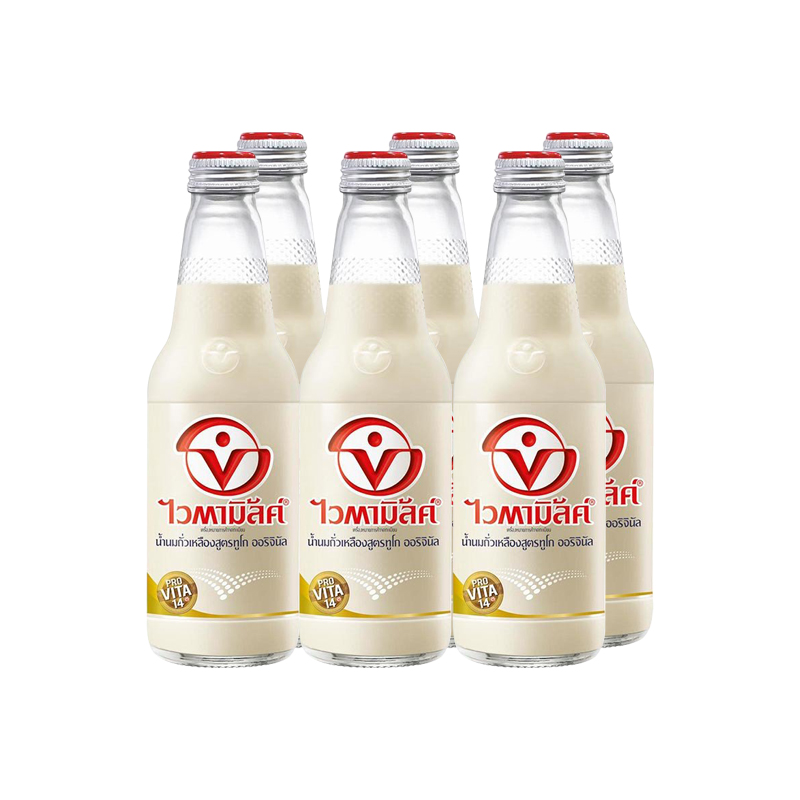glass_bottle: (130, 108, 682, 686)
